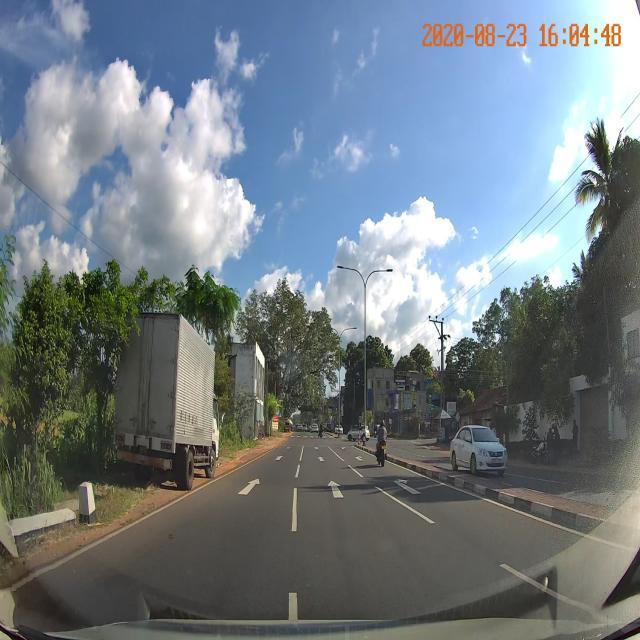forward: (291, 475, 410, 507)
